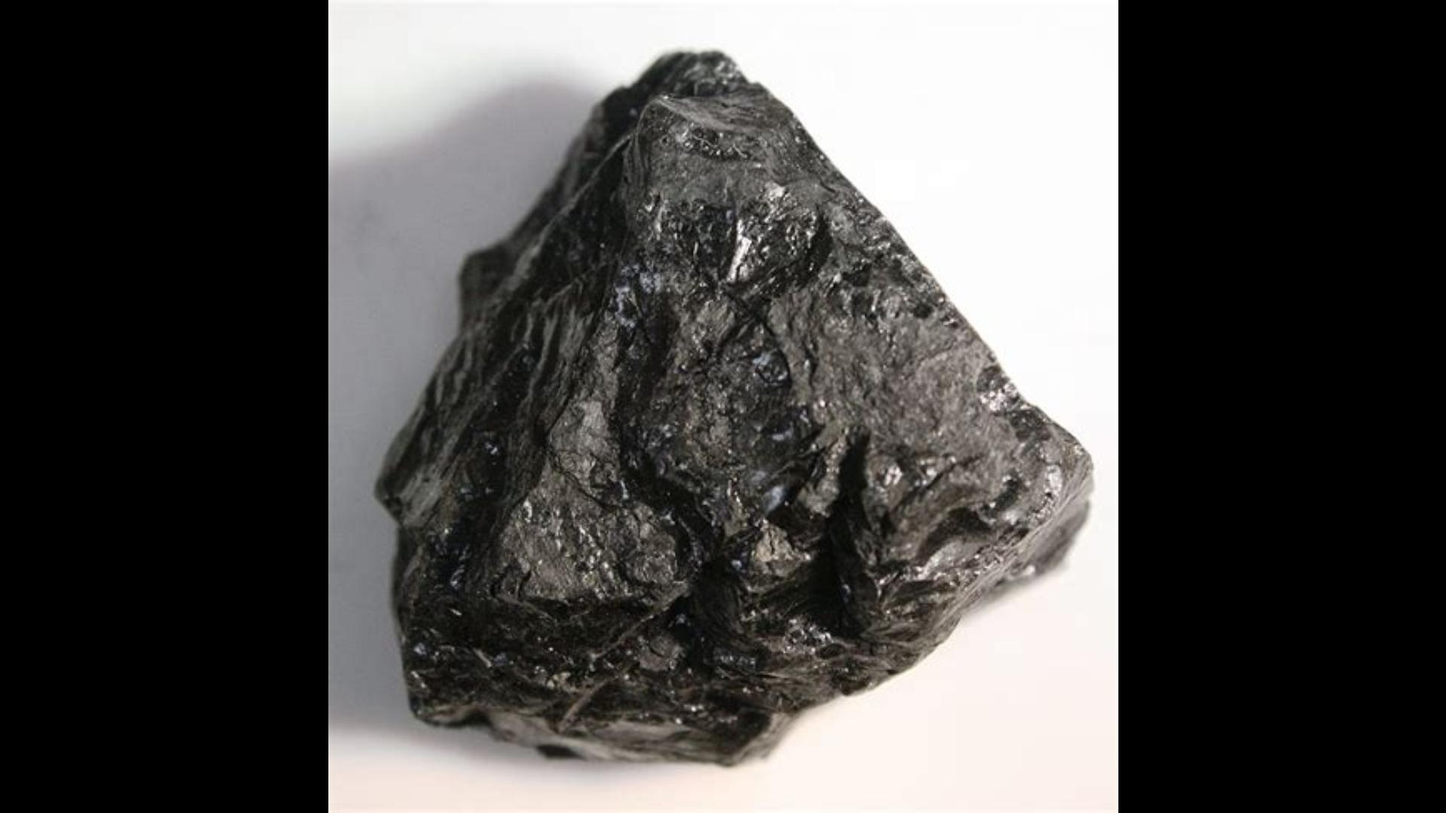rock: (376, 53, 1081, 761)
